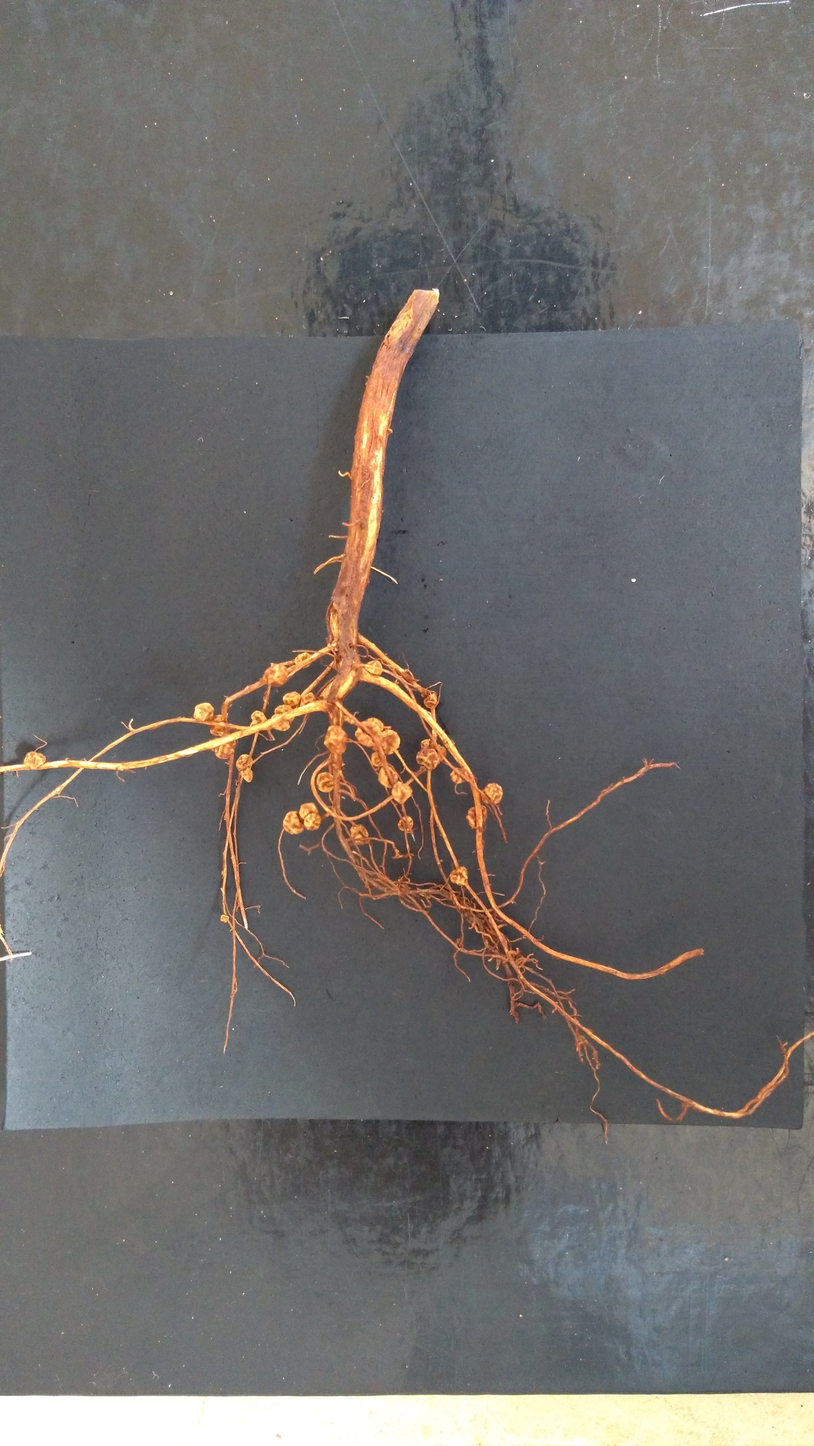nodule: (354, 720, 381, 748), (261, 663, 290, 688), (378, 728, 402, 756), (464, 804, 489, 830), (281, 809, 305, 836), (390, 779, 414, 805), (415, 746, 441, 770), (480, 781, 504, 805), (21, 749, 47, 771), (376, 765, 399, 789), (191, 701, 216, 723), (315, 770, 336, 794), (350, 823, 370, 846), (449, 864, 469, 887), (211, 742, 235, 760), (298, 800, 320, 819), (303, 810, 322, 832), (273, 705, 296, 723), (269, 714, 292, 732), (235, 752, 254, 773), (209, 713, 225, 737), (248, 709, 268, 727), (293, 651, 313, 669), (282, 690, 302, 707), (449, 766, 467, 784), (397, 814, 414, 833), (364, 659, 383, 676), (370, 750, 387, 768), (366, 716, 385, 732), (299, 691, 317, 707), (422, 692, 437, 710), (239, 767, 254, 783), (419, 738, 432, 749), (227, 738, 239, 749), (219, 913, 230, 924)
